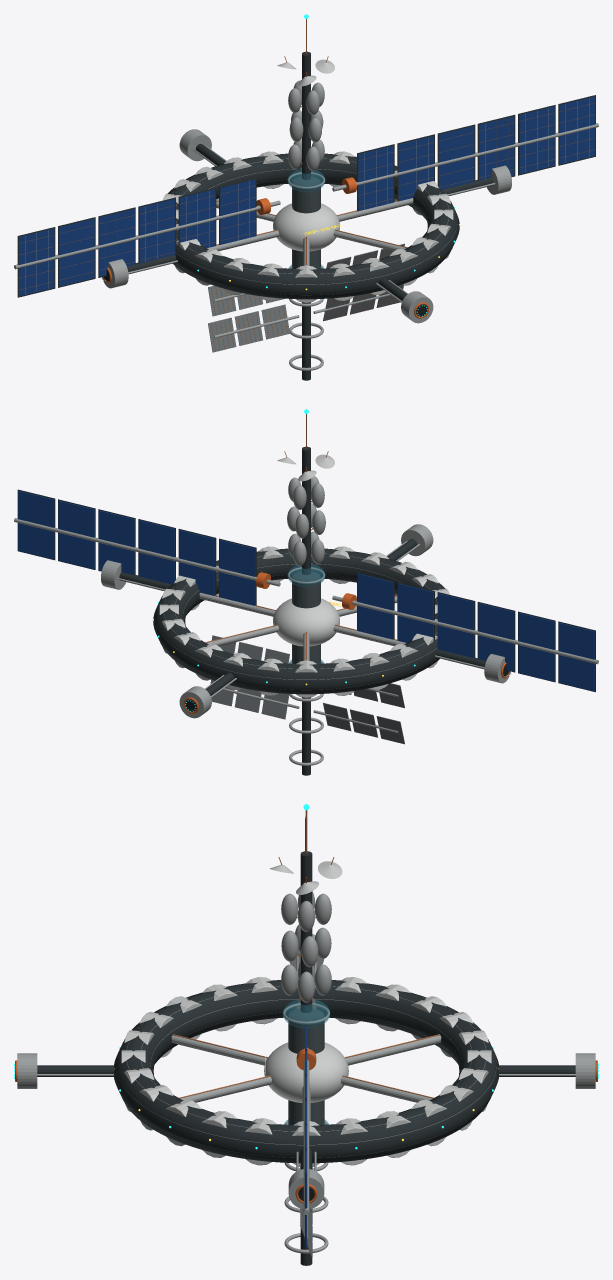
Rendered from origin-apse-station.glb.
3 renders of one model, top to bottom at view 1: azimuth 30°, elevation 25°; view 2: azimuth 150°, elevation 25°; view 3: azimuth 270°, elevation 25°, orthographic. The views are drawn at different scales.
Parts seen in each view (by area): view 1: Habitat ring dark chine, Operations hub, Solar face -1 04, Solar face +1 05, Solar face +1 04, Solar face -1 05, Solar face -1 00, Solar face +1 00, Solar face -1 02, Solar face +1 02, Solar face -1 03, Solar face +1 03 (+18 smaller); view 2: Habitat ring dark chine, Operations hub, Solar cassette +1 04, Solar cassette -1 04, Solar cassette +1 05, Solar cassette -1 05, Solar cassette +1 00, Solar cassette -1 00, Solar cassette -1 02, Solar cassette +1 02, Solar cassette -1 03, Solar cassette +1 03 (+18 smaller); view 3: Habitat ring dark chine, Operations hub, Hub axial core, Habitat ring pressure hull, Axial observation crown +11.4, North mast, Docking vestibule 00, Primary spoke 02, Primary spoke 04, Solar boom +1, Dock pier spine 01, Dock pier spine 03 (+4 smaller).
Boxes of the visible parts, x1,y1,x2,y2 form: Habitat ring dark chine: (167,153,459,299); Operations hub: (273,203,339,251); Solar face -1 04: (59,218,94,286); Solar face +1 05: (559,96,594,164); Solar face +1 04: (519,106,554,174); Solar face -1 05: (19,228,54,296); Solar face -1 00: (220,179,255,244); Solar face +1 00: (358,145,393,211); Solar face -1 02: (139,199,174,263); Solar face +1 02: (439,126,474,189); Solar face -1 03: (99,209,134,276); Solar face +1 03: (479,116,514,180); Habitat ring dark chine: (153,548,445,694); Operations hub: (273,598,339,646); Solar cassette +1 04: (58,500,94,569); Solar cassette -1 04: (518,613,554,681); Solar cassette +1 05: (18,490,54,559); Solar cassette -1 05: (558,622,594,691); Solar cassette +1 00: (219,540,255,605); Solar cassette -1 00: (357,573,393,639); Solar cassette -1 02: (438,593,474,657); Solar cassette +1 02: (138,520,174,584); Solar cassette -1 03: (478,603,514,671); Solar cassette +1 03: (98,510,134,575); Habitat ring dark chine: (113,980,499,1163); Operations hub: (264,1042,348,1102); Hub axial core: (288,1008,324,1124); Habitat ring pressure hull: (116,986,496,1157); Axial observation crown +11.4: (282,999,330,1027); North mast: (300,851,312,1012); Docking vestibule 00: (288,1169,324,1209); Primary spoke 02: (345,1035,441,1065); Primary spoke 04: (171,1035,267,1065); Solar boom +1: (303,1047,309,1214); Dock pier spine 01: (499,1065,575,1076); Dock pier spine 03: (37,1065,113,1076).
Size of the model in its own units: 152 by 90.75 by 105.
